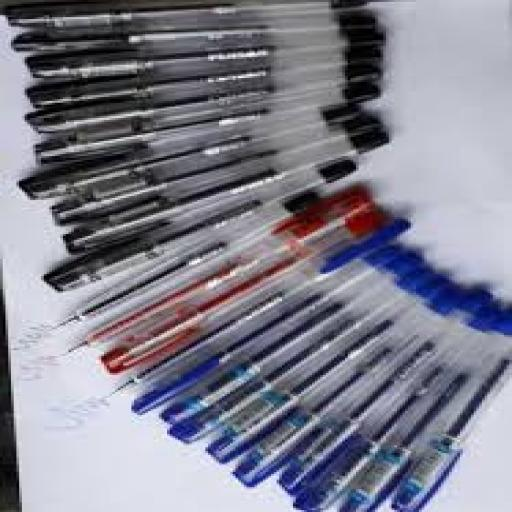tukenmez-kalem: (2, 4, 512, 485)
